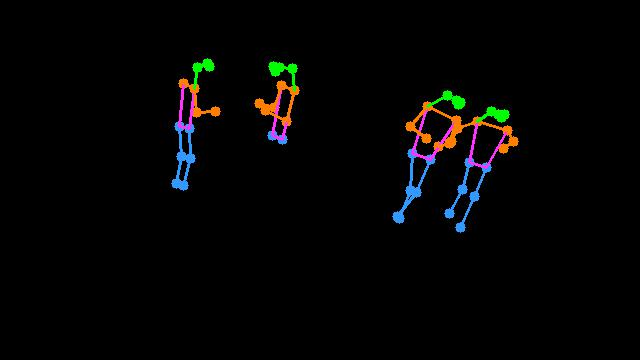normal: (383, 72, 528, 246), (145, 45, 240, 206), (240, 55, 317, 152)
